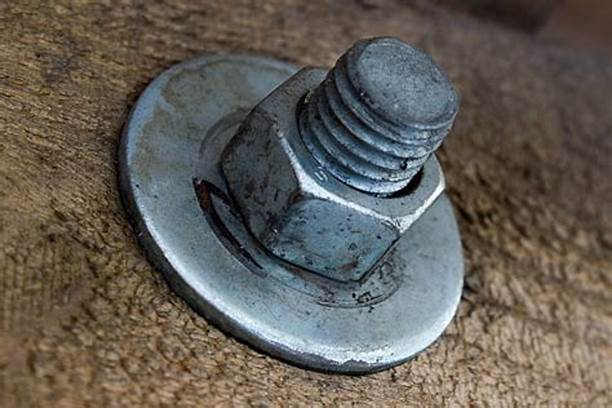bolt_b: (213, 56, 445, 286)
